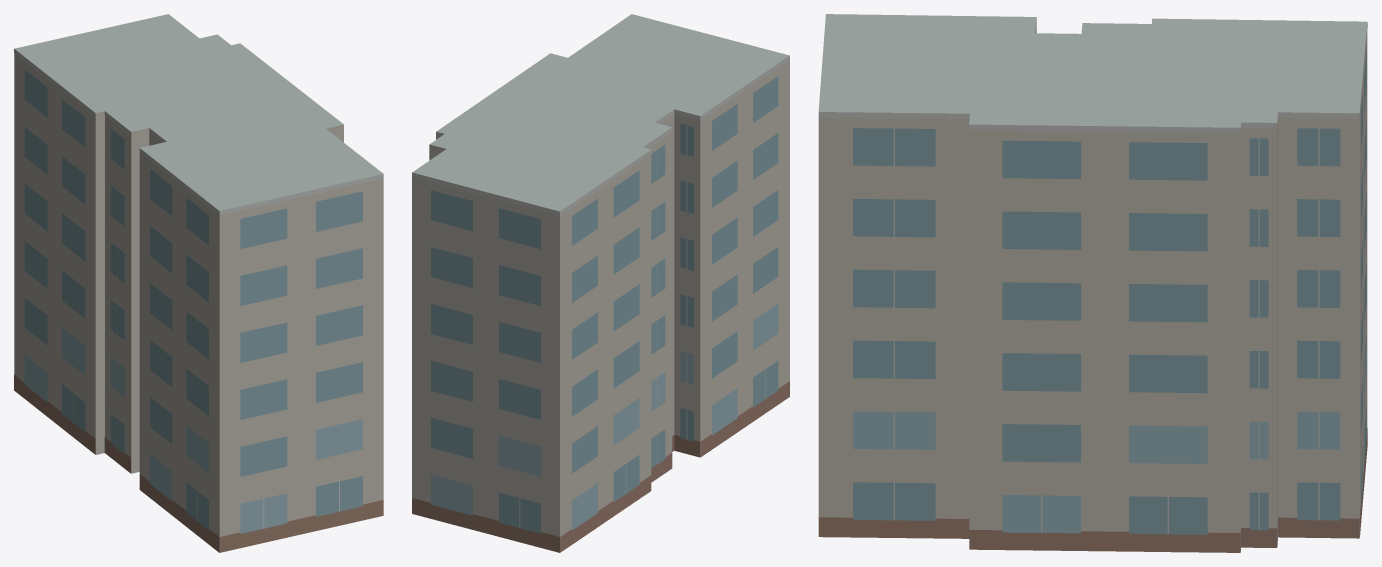
Rendered from survey-upis-32564553.glb.
The picture shows the model from 3 angles, left to right: view 1: azimuth 30°, elevation 25°; view 2: azimuth 150°, elevation 25°; view 3: azimuth 270°, elevation 25°; orthographic projection. The views are drawn at different scales.
Parts seen in each view (by area): view 1: survey-upis-32564553.tmp; view 2: survey-upis-32564553.tmp; view 3: survey-upis-32564553.tmp.
Part boxes in pixels (x1,y1,x2,y2): survey-upis-32564553.tmp: [14, 14, 383, 552]; survey-upis-32564553.tmp: [412, 14, 789, 552]; survey-upis-32564553.tmp: [818, 14, 1367, 552].
Size of the model in its own units: 10.52 by 18.3 by 21.42.
